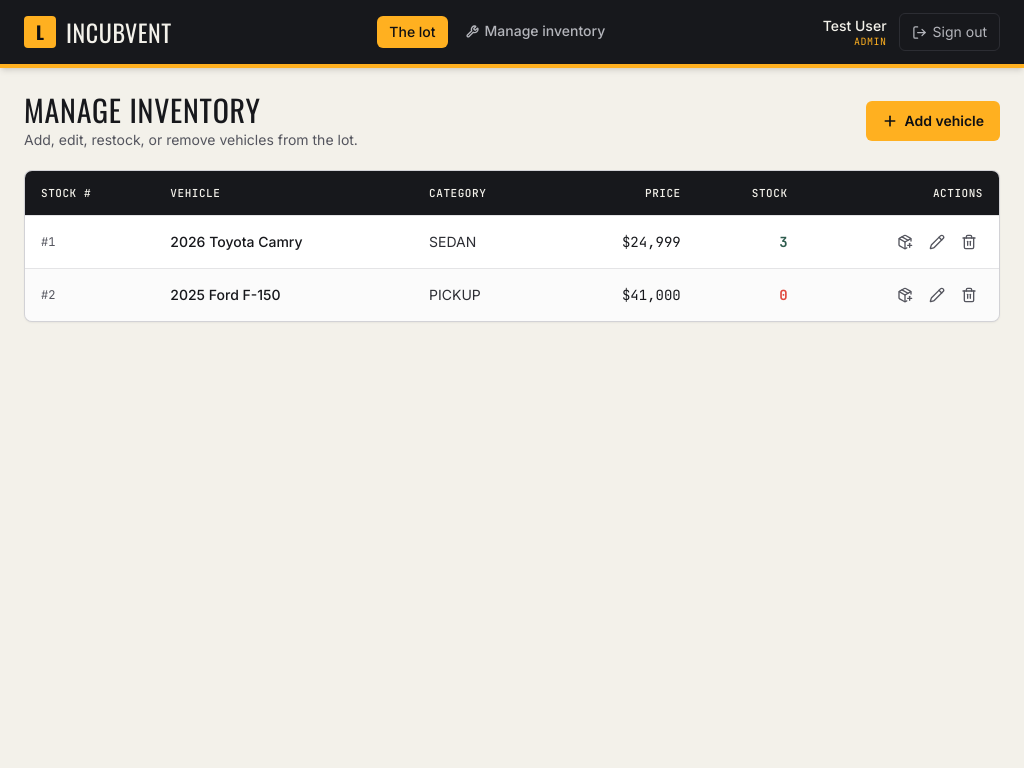
Test case: Dashboard › lets an admin add a new vehicle through the form modal
This screenshot has width=1024, height=768.
Expected: the text "2026 Toyota Camry" is shown, x1=154 y1=216 x2=413 y2=268
Click the button "Add vehicle".
click(933, 121)  # box x1=866 y1=101 x2=1000 y2=141
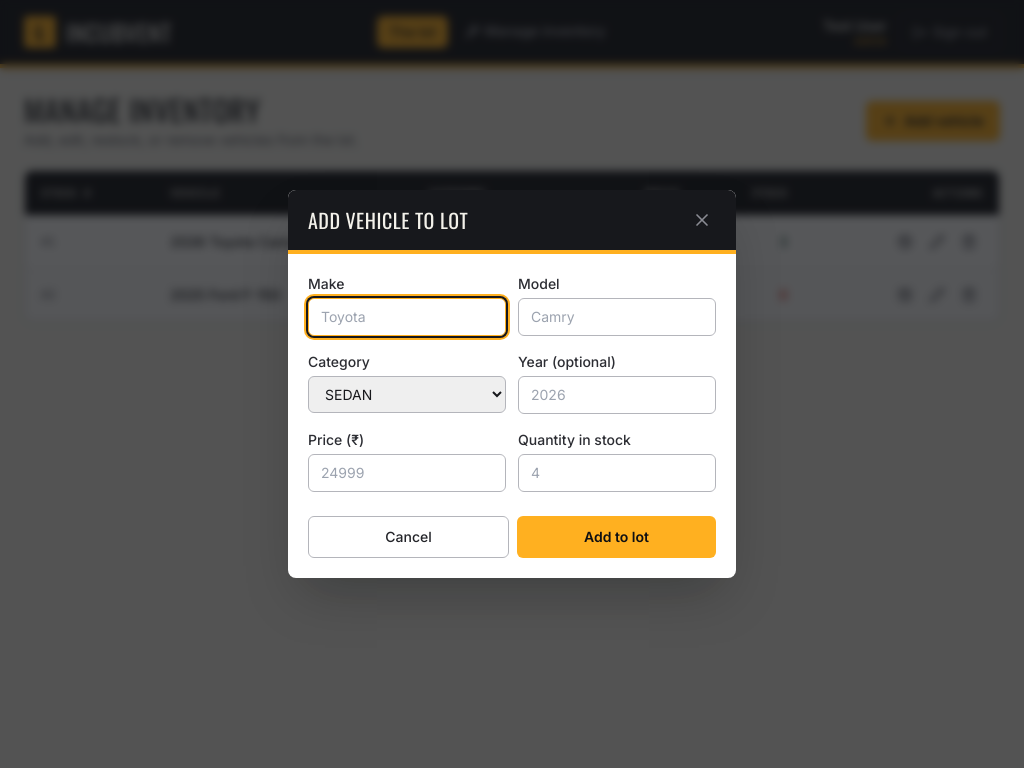
Type "Kia" into the field with placeholder "Toyota".
click(407, 317); type("Kia")  # box x1=308 y1=298 x2=506 y2=336
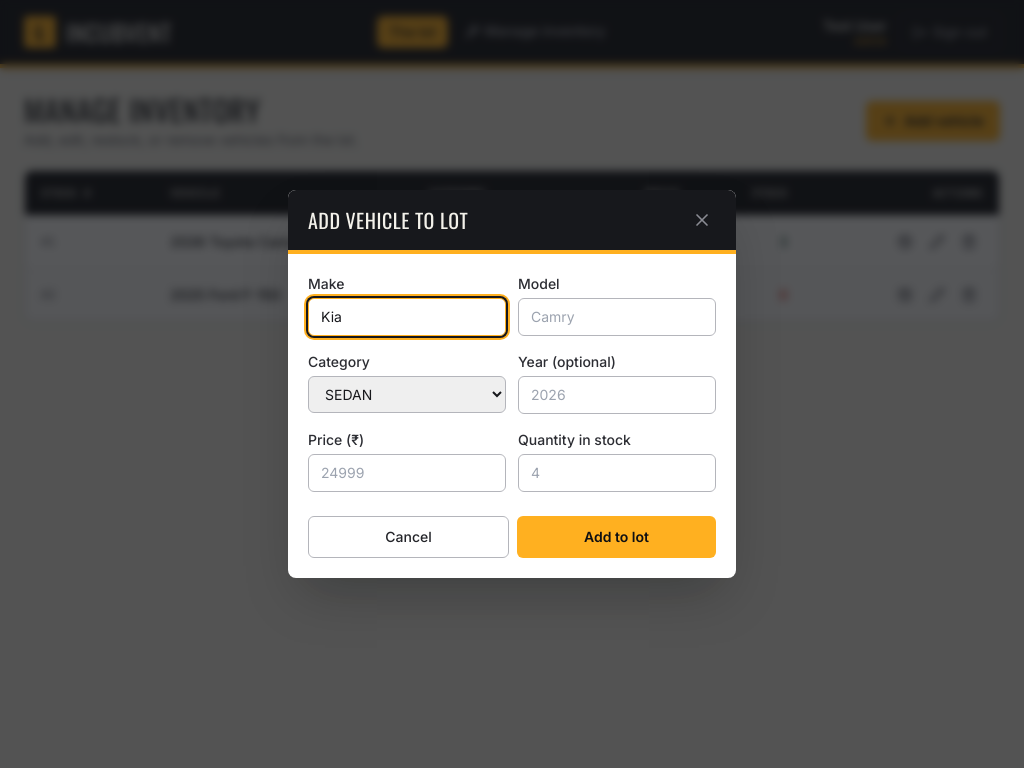
Type "Soul" into the field with placeholder "Camry".
click(617, 317); type("Soul")  # box x1=518 y1=298 x2=716 y2=336
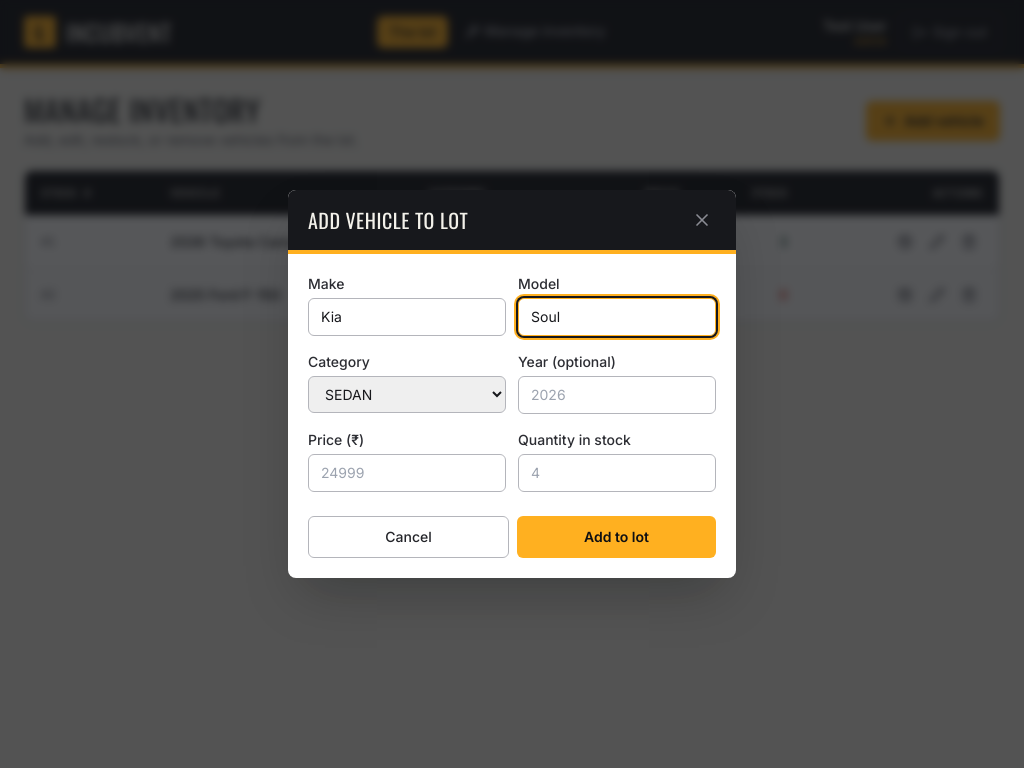
Type "18000" into the number field with placeholder "24999".
click(407, 473); type("18000")  # box x1=308 y1=454 x2=506 y2=492
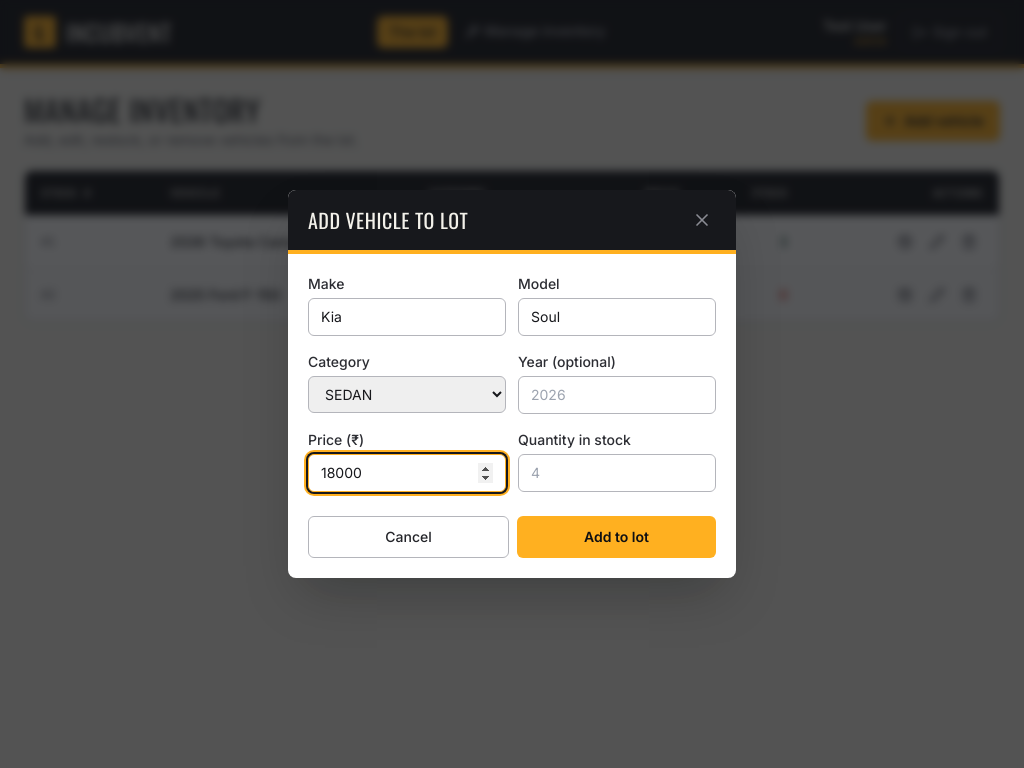
Type "5" into the number field with placeholder "4".
click(617, 473); type("5")  # box x1=518 y1=454 x2=716 y2=492
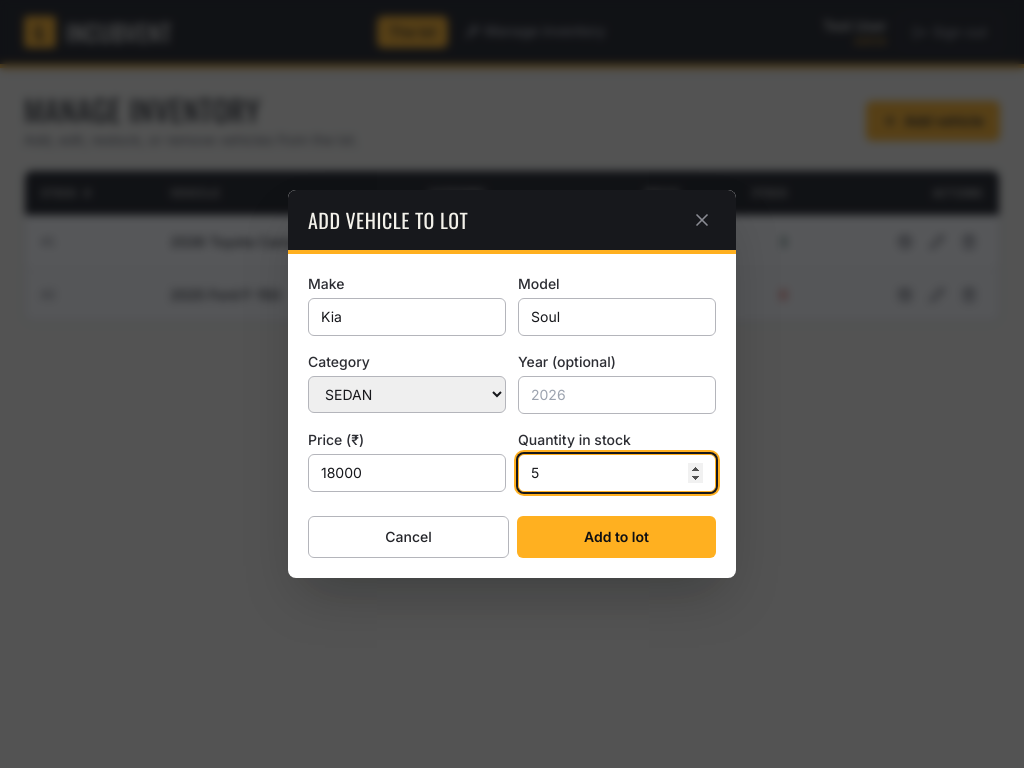
Click the button "Add to lot".
click(616, 537)  # box x1=517 y1=516 x2=716 y2=558
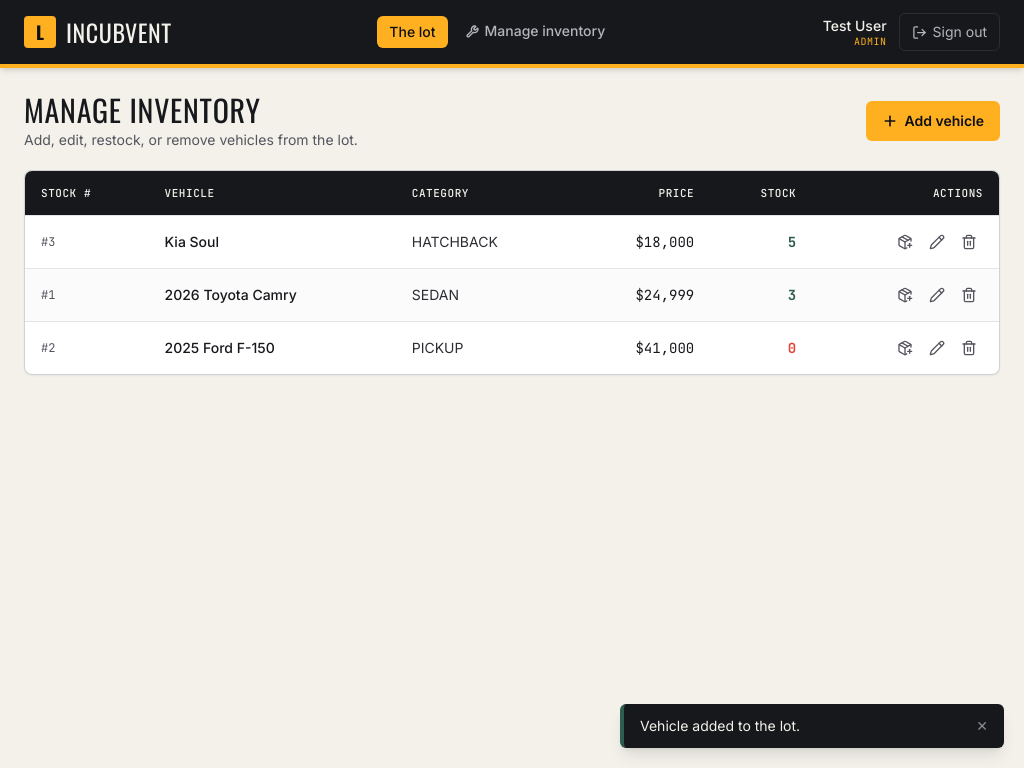
Now the text "Kia Soul" is shown, box x1=148 y1=216 x2=396 y2=268
